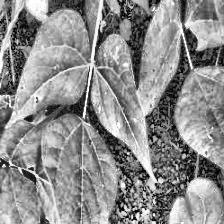ALS: (14, 12, 94, 120), (43, 116, 115, 224), (0, 166, 60, 223), (106, 0, 149, 13)
